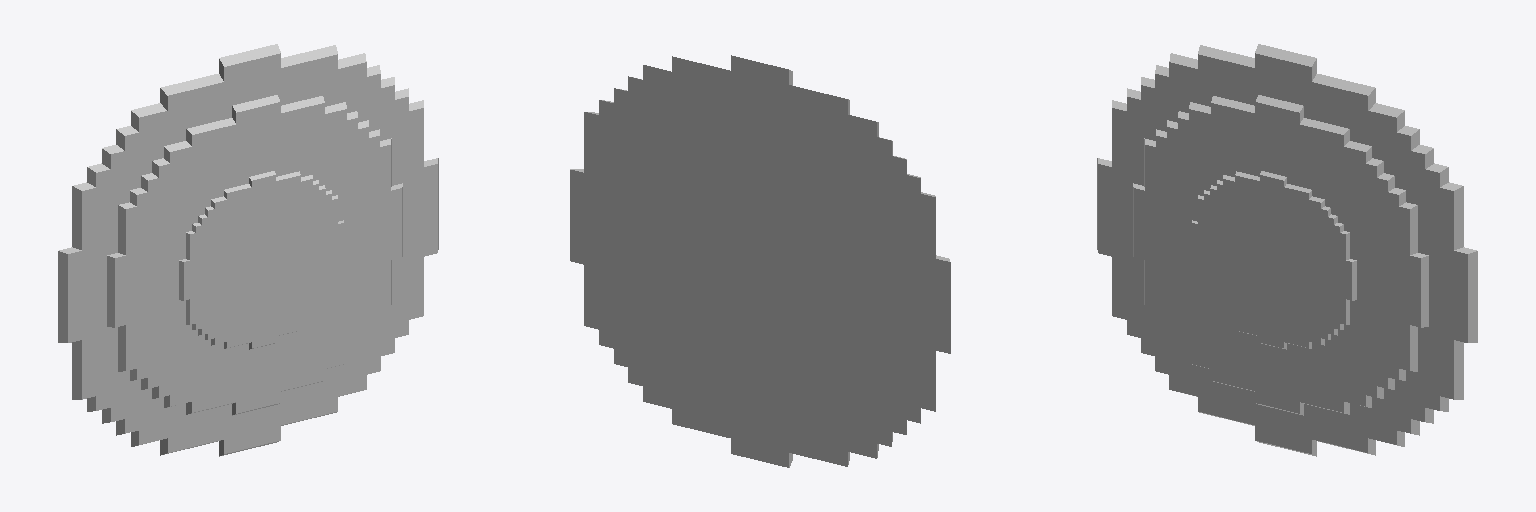
Rendered from wormhole.obj.
3 renders of one model, left to right at view 1: azimuth 30°, elevation 25°; view 2: azimuth 150°, elevation 25°; view 3: azimuth 330°, elevation 25°, orthographic.
Parts seen in each view (by area): view 1: base, Cube, Cube.001_Cube.003; view 2: Cube, Cube.001_Cube.003, base; view 3: base, Cube, Cube.001_Cube.003.
Part boxes in pixels (bbox=[...]): base: bbox=[107, 95, 402, 415]; Cube: bbox=[58, 44, 438, 456]; Cube.001_Cube.003: bbox=[179, 171, 343, 349]; Cube: bbox=[570, 55, 950, 467]; Cube.001_Cube.003: bbox=[737, 217, 800, 292]; base: bbox=[722, 210, 803, 308]; base: bbox=[1133, 95, 1428, 415]; Cube: bbox=[1097, 44, 1477, 456]; Cube.001_Cube.003: bbox=[1192, 171, 1356, 349].
Size of the model in its own units: 2.99 by 2.99 by 0.2143.